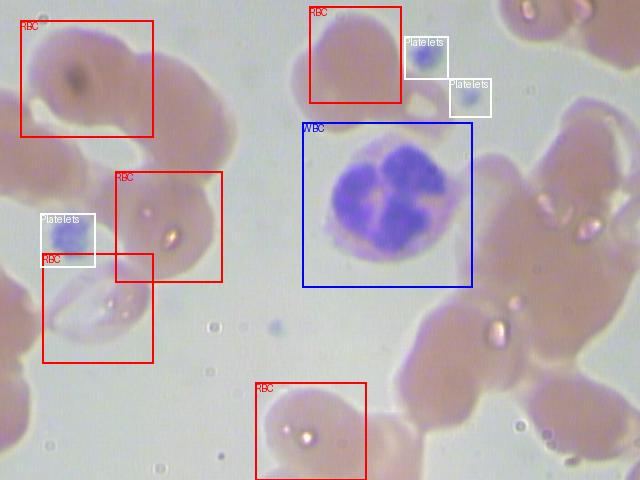Platelets: (40, 213, 95, 267), (404, 36, 448, 79), (449, 78, 491, 117)
RBC: (20, 20, 153, 137), (42, 253, 153, 363), (115, 171, 222, 282), (255, 382, 366, 480), (309, 6, 401, 103)
WBC: (302, 122, 472, 287)
